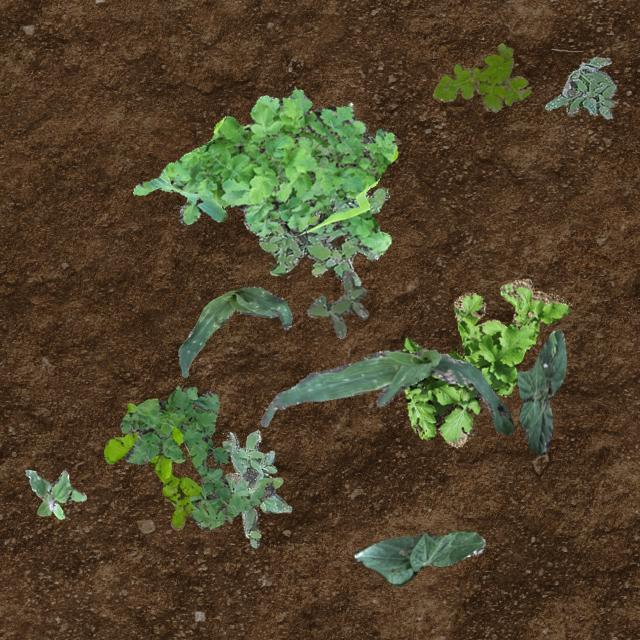crop: (258, 348, 512, 434), (178, 284, 292, 376), (354, 530, 484, 584), (514, 328, 566, 454)
weed: (132, 88, 396, 255), (400, 278, 570, 447), (120, 384, 274, 530), (102, 400, 202, 530), (258, 187, 387, 286), (222, 428, 290, 546), (432, 42, 530, 112), (544, 55, 616, 118), (306, 270, 368, 338), (24, 468, 86, 518)
